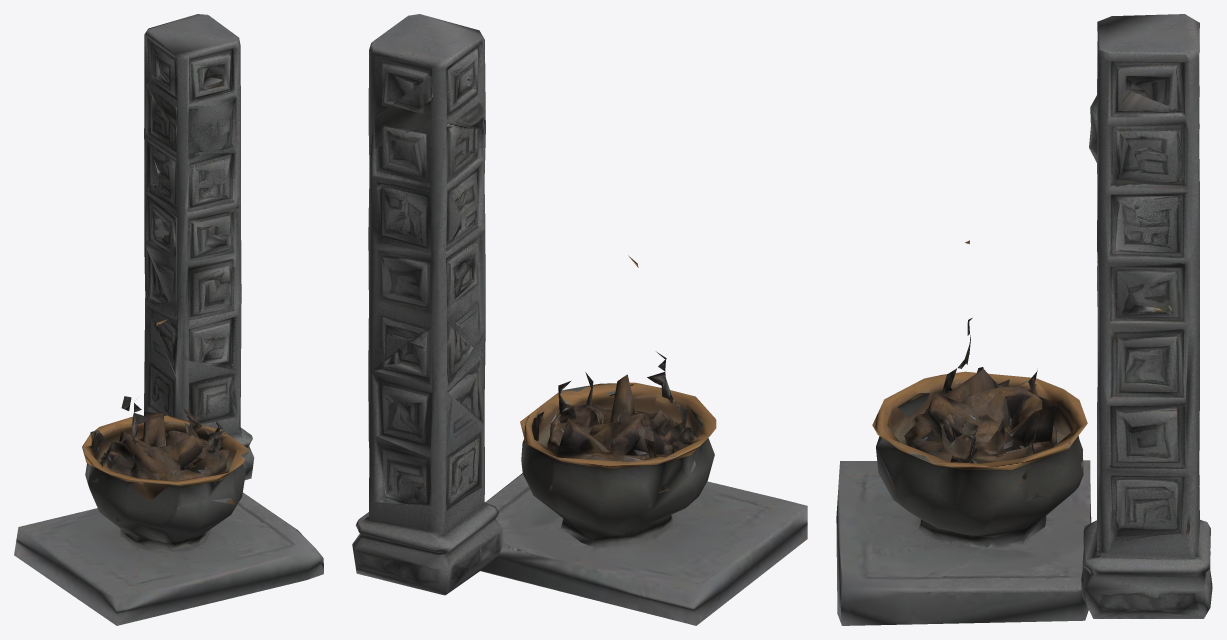
File: floor_lamp.glb
The picture shows the model from 3 angles, left to right: view 1: azimuth 30°, elevation 25°; view 2: azimuth 150°, elevation 25°; view 3: azimuth 270°, elevation 25°; orthographic projection. The views are drawn at different scales.
Size of the model in its own units: 1.06 by 1.9 by 1.1.
Materials: 1 (1 with a texture image).
